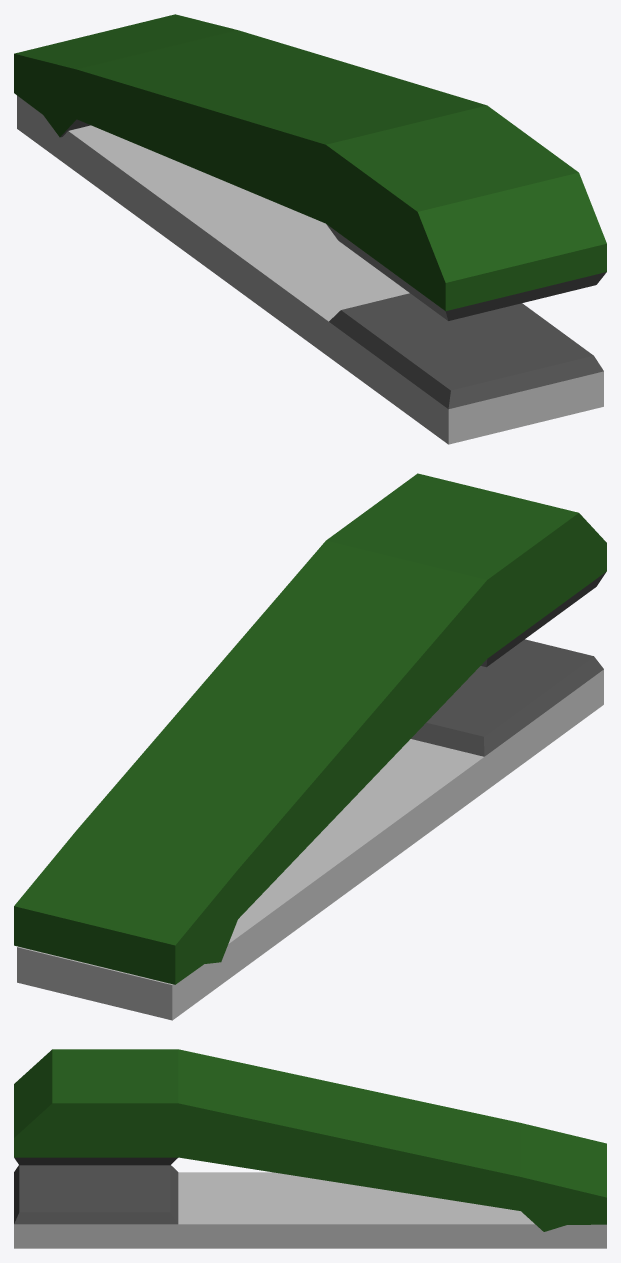
Rendered from Klipser_Grøn.fbx.
3 renders of one model, top to bottom at view 1: azimuth 30°, elevation 25°; view 2: azimuth 150°, elevation 25°; view 3: azimuth 270°, elevation 25°, orthographic. The views are drawn at different scales.
Visible parts, largest first — view 1: Cube; view 2: Cube; view 3: Cube.
Boxes of the visible parts, left/top/right/bottom form: Cube: left=14, top=14, right=606, bottom=444; Cube: left=14, top=473, right=606, bottom=1020; Cube: left=14, top=1049, right=606, bottom=1248.
Size of the model in its own units: 10.71 by 13.5 by 49.61.
